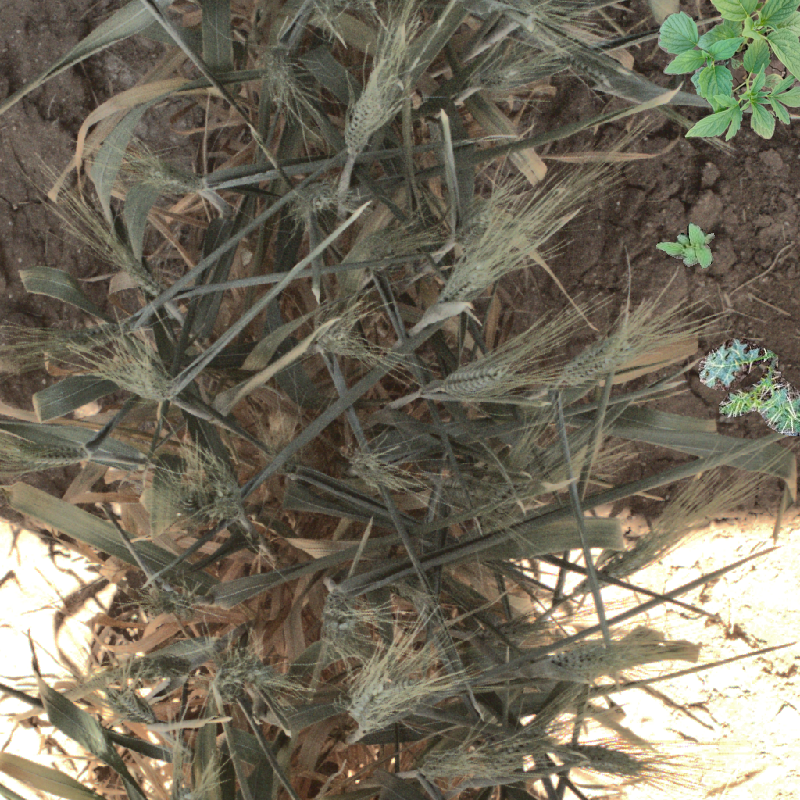spikelet: (438, 218, 537, 316), (575, 529, 676, 598), (343, 50, 405, 153), (553, 322, 644, 389), (105, 236, 170, 310), (351, 675, 433, 731), (525, 637, 637, 677), (193, 456, 244, 534), (549, 740, 642, 780), (436, 356, 512, 401), (537, 44, 612, 89), (651, 610, 730, 651), (9, 432, 92, 470), (310, 319, 377, 365), (213, 649, 275, 698), (257, 48, 302, 107), (117, 357, 174, 403), (139, 158, 207, 196), (317, 587, 363, 643), (415, 745, 476, 781), (286, 180, 337, 223), (345, 448, 393, 489), (107, 686, 156, 724)
weed: (658, 1, 800, 142), (701, 343, 800, 438), (656, 222, 715, 269)
